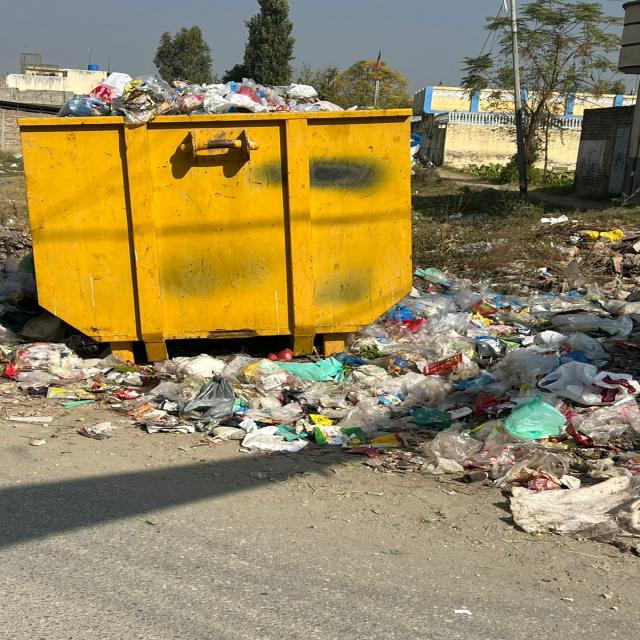garbage: (0, 284, 640, 510), (53, 66, 370, 127)
